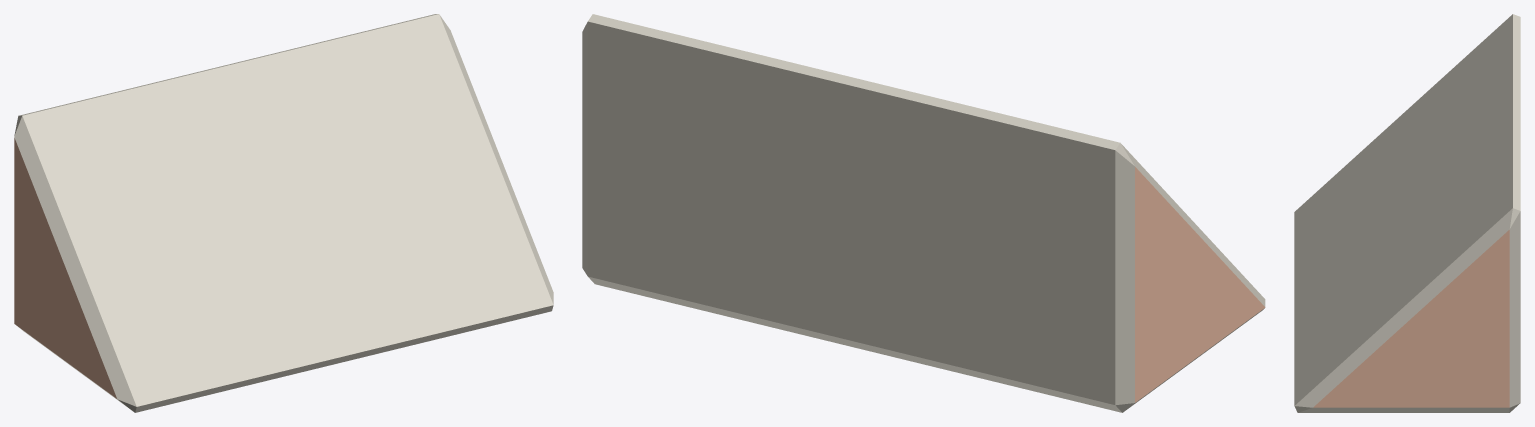
Rendered from R4B_WideWedge_LOD1.fbx.
The picture shows the model from 3 angles, left to right: view 1: azimuth 30°, elevation 25°; view 2: azimuth 150°, elevation 25°; view 3: azimuth 270°, elevation 25°; orthographic projection. The views are drawn at different scales.
Parts seen in each view (by area): view 1: R4B_WideWedge_LOD1; view 2: R4B_WideWedge_LOD1; view 3: R4B_WideWedge_LOD1.
Part boxes in pixels (bbox=[...]): R4B_WideWedge_LOD1: bbox=[14, 14, 553, 412]; R4B_WideWedge_LOD1: bbox=[582, 14, 1265, 412]; R4B_WideWedge_LOD1: bbox=[1294, 14, 1520, 412].
Bounding box in the file's own units: 1.07 × 0.503 × 0.503.
